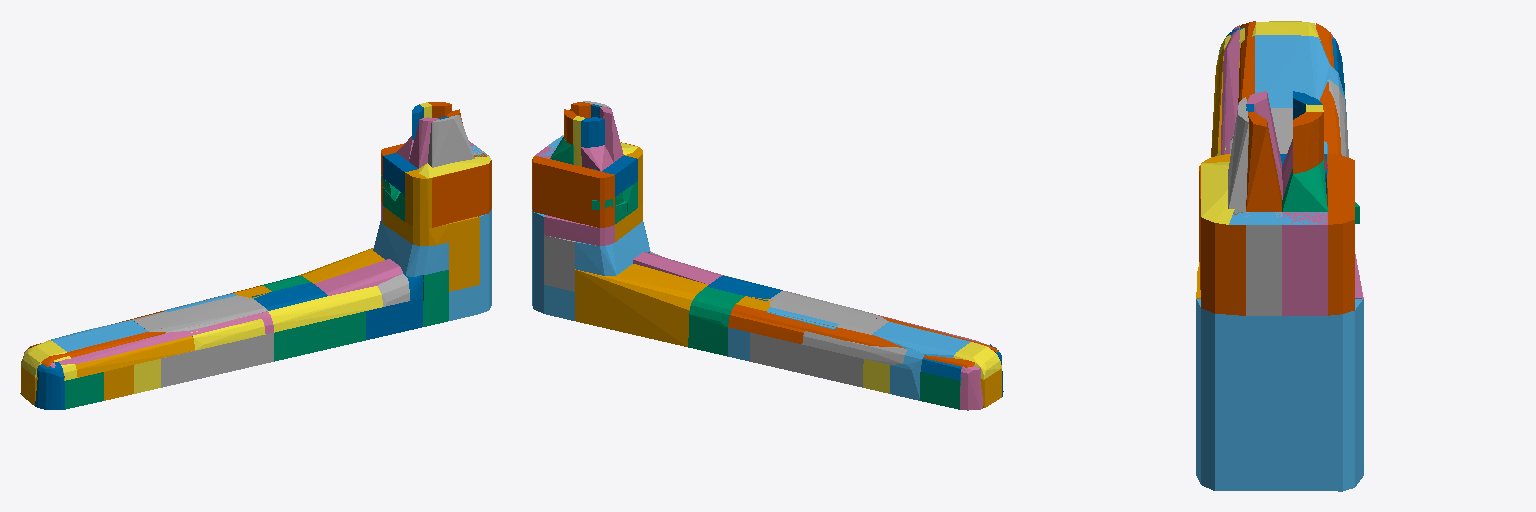
--- Facts derived from the render (not from the file) ---
The picture shows the robot from 3 angles, left to right: view 1: azimuth 30°, elevation 25°; view 2: azimuth 150°, elevation 25°; view 3: azimuth 270°, elevation 25°; orthographic projection.
Model root with 64 links and 63 joints (63 fixed), rooted at link_handle~handle1_convex_piece_0, posed every joint at zero.
Visible links, largest first — view 1: link_handle~handle1_convex_piece_63, link_handle~handle1_convex_piece_21, link_handle~handle1_convex_piece_58, link_handle~handle1_convex_piece_35, link_handle~handle1_convex_piece_47, link_handle~handle1_convex_piece_49, link_handle~handle1_convex_piece_8, link_handle~handle1_convex_piece_55, link_handle~handle1_convex_piece_48, link_handle~handle1_convex_piece_44, link_handle~handle1_convex_piece_46, link_handle~handle1_convex_piece_38 (+19 smaller); view 2: link_handle~handle1_convex_piece_56, link_handle~handle1_convex_piece_45, link_handle~handle1_convex_piece_63, link_handle~handle1_convex_piece_34, link_handle~handle1_convex_piece_49, link_handle~handle1_convex_piece_47, link_handle~handle1_convex_piece_61, link_handle~handle1_convex_piece_41, link_handle~handle1_convex_piece_7, link_handle~handle1_convex_piece_22, link_handle~handle1_convex_piece_57, link_handle~handle1_convex_piece_25 (+17 smaller); view 3: link_handle~handle1_convex_piece_25, link_handle~handle1_convex_piece_6, link_handle~handle1_convex_piece_41, link_handle~handle1_convex_piece_45, link_handle~handle1_convex_piece_21, link_handle~handle1_convex_piece_15, link_handle~handle1_convex_piece_53, link_handle~handle1_convex_piece_55, link_handle~handle1_convex_piece_26, link_handle~handle1_convex_piece_29, link_handle~handle1_convex_piece_38, link_handle~handle1_convex_piece_43 (+7 smaller).
Link boxes in pixels (x1,y1,x2,y2): link_handle~handle1_convex_piece_63: (161, 333, 273, 387); link_handle~handle1_convex_piece_21: (432, 153, 491, 227); link_handle~handle1_convex_piece_58: (274, 311, 365, 361); link_handle~handle1_convex_piece_35: (268, 286, 382, 332); link_handle~handle1_convex_piece_47: (134, 295, 267, 333); link_handle~handle1_convex_piece_49: (373, 220, 448, 276); link_handle~handle1_convex_piece_8: (449, 216, 479, 291); link_handle~handle1_convex_piece_55: (428, 115, 474, 167); link_handle~handle1_convex_piece_48: (75, 336, 194, 377); link_handle~handle1_convex_piece_44: (366, 298, 422, 339); link_handle~handle1_convex_piece_46: (314, 259, 402, 295); link_handle~handle1_convex_piece_38: (50, 313, 261, 367); link_handle~handle1_convex_piece_56: (575, 264, 707, 346); link_handle~handle1_convex_piece_45: (532, 156, 614, 227); link_handle~handle1_convex_piece_63: (750, 332, 863, 387); link_handle~handle1_convex_piece_34: (688, 287, 744, 356); link_handle~handle1_convex_piece_49: (575, 221, 650, 275); link_handle~handle1_convex_piece_47: (769, 291, 888, 332); link_handle~handle1_convex_piece_61: (731, 304, 974, 367); link_handle~handle1_convex_piece_41: (872, 322, 969, 357); link_handle~handle1_convex_piece_7: (544, 235, 575, 291); link_handle~handle1_convex_piece_22: (544, 215, 614, 245); link_handle~handle1_convex_piece_57: (890, 348, 924, 400); link_handle~handle1_convex_piece_25: (532, 209, 546, 313); link_handle~handle1_convex_piece_25: (1196, 299, 1363, 491); link_handle~handle1_convex_piece_6: (1282, 212, 1327, 315); link_handle~handle1_convex_piece_41: (1255, 35, 1329, 107); link_handle~handle1_convex_piece_45: (1327, 154, 1354, 315); link_handle~handle1_convex_piece_21: (1199, 166, 1245, 315); link_handle~handle1_convex_piece_15: (1246, 212, 1281, 315); link_handle~handle1_convex_piece_53: (1246, 112, 1281, 211); link_handle~handle1_convex_piece_55: (1228, 97, 1248, 211); link_handle~handle1_convex_piece_26: (1282, 159, 1327, 211); link_handle~handle1_convex_piece_29: (1293, 112, 1323, 173); link_handle~handle1_convex_piece_38: (1221, 25, 1239, 154); link_handle~handle1_convex_piece_43: (1201, 162, 1234, 224).
Size in the robot's own frame: 0.1277 by 0.0227 by 0.052 metres.
64 mesh visuals loaded from 64 distinct referenced files (64 OBJ).

The robot description file, URDF, robot "root":
<robot name="root">
  <link name="link_handle~handle1_convex_piece_0">
    <inertial>
      <origin xyz="0 0 0" rpy="0 0 0"/>
      <mass value="9.66E-04"/>
      <inertia ixx="1.10E-07" ixy="-2.01E-07" ixz="-5.53E-07" iyy="3.87E-06" iyz="-3.13E-08" izz="3.80E-06"/>
    </inertial>
    <visual>
      <origin xyz="0 0 0" rpy="0 0 0"/>
      <geometry>
        <mesh filename="handle~handle1_convex_piece_0.obj" scale="1.0000E+00 1.0000E+00 1.0000E+00"/>
      </geometry>
      <material name=""/>
    </visual>
    <collision>
      <origin xyz="0 0 0" rpy="0 0 0"/>
      <geometry>
        <mesh filename="handle~handle1_convex_piece_0.obj" scale="1.0000E+00 1.0000E+00 1.0000E+00"/>
      </geometry>
    </collision>
  </link>
  <link name="link_handle~handle1_convex_piece_1">
    <inertial>
      <origin xyz="0 0 0" rpy="0 0 0"/>
      <mass value="5.49E-04"/>
      <inertia ixx="7.18E-08" ixy="4.76E-08" ixz="-7.96E-08" iyy="1.89E-07" iyz="2.88E-08" izz="1.57E-07"/>
    </inertial>
    <visual>
      <origin xyz="0 0 0" rpy="0 0 0"/>
      <geometry>
        <mesh filename="handle~handle1_convex_piece_1.obj" scale="1.0000E+00 1.0000E+00 1.0000E+00"/>
      </geometry>
      <material name=""/>
    </visual>
    <collision>
      <origin xyz="0 0 0" rpy="0 0 0"/>
      <geometry>
        <mesh filename="handle~handle1_convex_piece_1.obj" scale="1.0000E+00 1.0000E+00 1.0000E+00"/>
      </geometry>
    </collision>
  </link>
  <joint name="link_handle~handle1_convex_piece_1_joint" type="fixed">
    <origin xyz="0 0 0" rpy="0 0 0"/>
    <parent link="link_handle~handle1_convex_piece_0"/>
    <child link="link_handle~handle1_convex_piece_1"/>
  </joint>
  <link name="link_handle~handle1_convex_piece_2">
    <inertial>
      <origin xyz="0 0 0" rpy="0 0 0"/>
      <mass value="1.30E-03"/>
      <inertia ixx="1.38E-07" ixy="1.82E-07" ixz="2.47E-07" iyy="1.01E-06" iyz="-4.94E-08" izz="9.71E-07"/>
    </inertial>
    <visual>
      <origin xyz="0 0 0" rpy="0 0 0"/>
      <geometry>
        <mesh filename="handle~handle1_convex_piece_2.obj" scale="1.0000E+00 1.0000E+00 1.0000E+00"/>
      </geometry>
      <material name=""/>
    </visual>
    <collision>
      <origin xyz="0 0 0" rpy="0 0 0"/>
      <geometry>
        <mesh filename="handle~handle1_convex_piece_2.obj" scale="1.0000E+00 1.0000E+00 1.0000E+00"/>
      </geometry>
    </collision>
  </link>
  <joint name="link_handle~handle1_convex_piece_2_joint" type="fixed">
    <origin xyz="0 0 0" rpy="0 0 0"/>
    <parent link="link_handle~handle1_convex_piece_1"/>
    <child link="link_handle~handle1_convex_piece_2"/>
  </joint>
  <link name="link_handle~handle1_convex_piece_3">
    <inertial>
      <origin xyz="0 0 0" rpy="0 0 0"/>
      <mass value="1.32E-03"/>
      <inertia ixx="1.67E-07" ixy="3.58E-09" ixz="-6.91E-07" iyy="4.07E-06" iyz="3.04E-10" izz="3.97E-06"/>
    </inertial>
    <visual>
      <origin xyz="0 0 0" rpy="0 0 0"/>
      <geometry>
        <mesh filename="handle~handle1_convex_piece_3.obj" scale="1.0000E+00 1.0000E+00 1.0000E+00"/>
      </geometry>
      <material name=""/>
    </visual>
    <collision>
      <origin xyz="0 0 0" rpy="0 0 0"/>
      <geometry>
        <mesh filename="handle~handle1_convex_piece_3.obj" scale="1.0000E+00 1.0000E+00 1.0000E+00"/>
      </geometry>
    </collision>
  </link>
  <joint name="link_handle~handle1_convex_piece_3_joint" type="fixed">
    <origin xyz="0 0 0" rpy="0 0 0"/>
    <parent link="link_handle~handle1_convex_piece_2"/>
    <child link="link_handle~handle1_convex_piece_3"/>
  </joint>
  <link name="link_handle~handle1_convex_piece_4">
    <inertial>
      <origin xyz="0 0 0" rpy="0 0 0"/>
      <mass value="1.26E-04"/>
      <inertia ixx="9.51E-09" ixy="2.07E-08" ixz="8.66E-09" iyy="5.88E-08" iyz="-3.23E-09" izz="6.50E-08"/>
    </inertial>
    <visual>
      <origin xyz="0 0 0" rpy="0 0 0"/>
      <geometry>
        <mesh filename="handle~handle1_convex_piece_4.obj" scale="1.0000E+00 1.0000E+00 1.0000E+00"/>
      </geometry>
      <material name=""/>
    </visual>
    <collision>
      <origin xyz="0 0 0" rpy="0 0 0"/>
      <geometry>
        <mesh filename="handle~handle1_convex_piece_4.obj" scale="1.0000E+00 1.0000E+00 1.0000E+00"/>
      </geometry>
    </collision>
  </link>
  <joint name="link_handle~handle1_convex_piece_4_joint" type="fixed">
    <origin xyz="0 0 0" rpy="0 0 0"/>
    <parent link="link_handle~handle1_convex_piece_3"/>
    <child link="link_handle~handle1_convex_piece_4"/>
  </joint>
  <link name="link_handle~handle1_convex_piece_5">
    <inertial>
      <origin xyz="0 0 0" rpy="0 0 0"/>
      <mass value="6.37E-05"/>
      <inertia ixx="4.13E-09" ixy="-8.38E-09" ixz="-1.26E-08" iyy="7.22E-08" iyz="-1.53E-09" izz="7.01E-08"/>
    </inertial>
    <visual>
      <origin xyz="0 0 0" rpy="0 0 0"/>
      <geometry>
        <mesh filename="handle~handle1_convex_piece_5.obj" scale="1.0000E+00 1.0000E+00 1.0000E+00"/>
      </geometry>
      <material name=""/>
    </visual>
    <collision>
      <origin xyz="0 0 0" rpy="0 0 0"/>
      <geometry>
        <mesh filename="handle~handle1_convex_piece_5.obj" scale="1.0000E+00 1.0000E+00 1.0000E+00"/>
      </geometry>
    </collision>
  </link>
  <joint name="link_handle~handle1_convex_piece_5_joint" type="fixed">
    <origin xyz="0 0 0" rpy="0 0 0"/>
    <parent link="link_handle~handle1_convex_piece_4"/>
    <child link="link_handle~handle1_convex_piece_5"/>
  </joint>
  <link name="link_handle~handle1_convex_piece_6">
    <inertial>
      <origin xyz="0 0 0" rpy="0 0 0"/>
      <mass value="4.26E-04"/>
      <inertia ixx="1.64E-07" ixy="-5.77E-08" ixz="-3.39E-07" iyy="9.14E-07" iyz="-2.60E-08" izz="7.62E-07"/>
    </inertial>
    <visual>
      <origin xyz="0 0 0" rpy="0 0 0"/>
      <geometry>
        <mesh filename="handle~handle1_convex_piece_6.obj" scale="1.0000E+00 1.0000E+00 1.0000E+00"/>
      </geometry>
      <material name=""/>
    </visual>
    <collision>
      <origin xyz="0 0 0" rpy="0 0 0"/>
      <geometry>
        <mesh filename="handle~handle1_convex_piece_6.obj" scale="1.0000E+00 1.0000E+00 1.0000E+00"/>
      </geometry>
    </collision>
  </link>
  <joint name="link_handle~handle1_convex_piece_6_joint" type="fixed">
    <origin xyz="0 0 0" rpy="0 0 0"/>
    <parent link="link_handle~handle1_convex_piece_5"/>
    <child link="link_handle~handle1_convex_piece_6"/>
  </joint>
  <link name="link_handle~handle1_convex_piece_7">
    <inertial>
      <origin xyz="0 0 0" rpy="0 0 0"/>
      <mass value="7.29E-04"/>
      <inertia ixx="6.05E-08" ixy="-2.02E-07" ixz="-1.78E-08" iyy="8.79E-07" iyz="-3.95E-09" izz="9.18E-07"/>
    </inertial>
    <visual>
      <origin xyz="0 0 0" rpy="0 0 0"/>
      <geometry>
        <mesh filename="handle~handle1_convex_piece_7.obj" scale="1.0000E+00 1.0000E+00 1.0000E+00"/>
      </geometry>
      <material name=""/>
    </visual>
    <collision>
      <origin xyz="0 0 0" rpy="0 0 0"/>
      <geometry>
        <mesh filename="handle~handle1_convex_piece_7.obj" scale="1.0000E+00 1.0000E+00 1.0000E+00"/>
      </geometry>
    </collision>
  </link>
  <joint name="link_handle~handle1_convex_piece_7_joint" type="fixed">
    <origin xyz="0 0 0" rpy="0 0 0"/>
    <parent link="link_handle~handle1_convex_piece_6"/>
    <child link="link_handle~handle1_convex_piece_7"/>
  </joint>
  <link name="link_handle~handle1_convex_piece_8">
    <inertial>
      <origin xyz="0 0 0" rpy="0 0 0"/>
      <mass value="1.00E-03"/>
      <inertia ixx="1.05E-07" ixy="2.76E-07" ixz="-1.09E-07" iyy="1.23E-06" iyz="2.52E-08" izz="1.26E-06"/>
    </inertial>
    <visual>
      <origin xyz="0 0 0" rpy="0 0 0"/>
      <geometry>
        <mesh filename="handle~handle1_convex_piece_8.obj" scale="1.0000E+00 1.0000E+00 1.0000E+00"/>
      </geometry>
      <material name=""/>
    </visual>
    <collision>
      <origin xyz="0 0 0" rpy="0 0 0"/>
      <geometry>
        <mesh filename="handle~handle1_convex_piece_8.obj" scale="1.0000E+00 1.0000E+00 1.0000E+00"/>
      </geometry>
    </collision>
  </link>
  <joint name="link_handle~handle1_convex_piece_8_joint" type="fixed">
    <origin xyz="0 0 0" rpy="0 0 0"/>
    <parent link="link_handle~handle1_convex_piece_7"/>
    <child link="link_handle~handle1_convex_piece_8"/>
  </joint>
  <link name="link_handle~handle1_convex_piece_9">
    <inertial>
      <origin xyz="0 0 0" rpy="0 0 0"/>
      <mass value="0.00E+00"/>
      <inertia ixx="2.90E-23" ixy="-0.00E+00" ixz="-0.00E+00" iyy="2.90E-23" iyz="-0.00E+00" izz="0.00E+00"/>
    </inertial>
    <visual>
      <origin xyz="0 0 0" rpy="0 0 0"/>
      <geometry>
        <mesh filename="handle~handle1_convex_piece_9.obj" scale="1.0000E+00 1.0000E+00 1.0000E+00"/>
      </geometry>
      <material name=""/>
    </visual>
    <collision>
      <origin xyz="0 0 0" rpy="0 0 0"/>
      <geometry>
        <mesh filename="handle~handle1_convex_piece_9.obj" scale="1.0000E+00 1.0000E+00 1.0000E+00"/>
      </geometry>
    </collision>
  </link>
  <joint name="link_handle~handle1_convex_piece_9_joint" type="fixed">
    <origin xyz="0 0 0" rpy="0 0 0"/>
    <parent link="link_handle~handle1_convex_piece_8"/>
    <child link="link_handle~handle1_convex_piece_9"/>
  </joint>
  <link name="link_handle~handle1_convex_piece_10">
    <inertial>
      <origin xyz="0 0 0" rpy="0 0 0"/>
      <mass value="7.95E-05"/>
      <inertia ixx="2.95E-08" ixy="-1.14E-08" ixz="-3.44E-08" iyy="7.14E-08" iyz="-8.72E-09" izz="4.84E-08"/>
    </inertial>
    <visual>
      <origin xyz="0 0 0" rpy="0 0 0"/>
      <geometry>
        <mesh filename="handle~handle1_convex_piece_10.obj" scale="1.0000E+00 1.0000E+00 1.0000E+00"/>
      </geometry>
      <material name=""/>
    </visual>
    <collision>
      <origin xyz="0 0 0" rpy="0 0 0"/>
      <geometry>
        <mesh filename="handle~handle1_convex_piece_10.obj" scale="1.0000E+00 1.0000E+00 1.0000E+00"/>
      </geometry>
    </collision>
  </link>
  <joint name="link_handle~handle1_convex_piece_10_joint" type="fixed">
    <origin xyz="0 0 0" rpy="0 0 0"/>
    <parent link="link_handle~handle1_convex_piece_9"/>
    <child link="link_handle~handle1_convex_piece_10"/>
  </joint>
  <link name="link_handle~handle1_convex_piece_11">
    <inertial>
      <origin xyz="0 0 0" rpy="0 0 0"/>
      <mass value="1.10E-04"/>
      <inertia ixx="8.50E-08" ixy="-1.58E-08" ixz="-9.57E-08" iyy="2.02E-07" iyz="-1.29E-08" izz="1.21E-07"/>
    </inertial>
    <visual>
      <origin xyz="0 0 0" rpy="0 0 0"/>
      <geometry>
        <mesh filename="handle~handle1_convex_piece_11.obj" scale="1.0000E+00 1.0000E+00 1.0000E+00"/>
      </geometry>
      <material name=""/>
    </visual>
    <collision>
      <origin xyz="0 0 0" rpy="0 0 0"/>
      <geometry>
        <mesh filename="handle~handle1_convex_piece_11.obj" scale="1.0000E+00 1.0000E+00 1.0000E+00"/>
      </geometry>
    </collision>
  </link>
  <joint name="link_handle~handle1_convex_piece_11_joint" type="fixed">
    <origin xyz="0 0 0" rpy="0 0 0"/>
    <parent link="link_handle~handle1_convex_piece_10"/>
    <child link="link_handle~handle1_convex_piece_11"/>
  </joint>
  <link name="link_handle~handle1_convex_piece_12">
    <inertial>
      <origin xyz="0 0 0" rpy="0 0 0"/>
      <mass value="5.61E-05"/>
      <inertia ixx="4.03E-09" ixy="2.89E-08" ixz="-1.80E-08" iyy="2.95E-07" iyz="1.80E-09" izz="2.97E-07"/>
    </inertial>
    <visual>
      <origin xyz="0 0 0" rpy="0 0 0"/>
      <geometry>
        <mesh filename="handle~handle1_convex_piece_12.obj" scale="1.0000E+00 1.0000E+00 1.0000E+00"/>
      </geometry>
      <material name=""/>
    </visual>
    <collision>
      <origin xyz="0 0 0" rpy="0 0 0"/>
      <geometry>
        <mesh filename="handle~handle1_convex_piece_12.obj" scale="1.0000E+00 1.0000E+00 1.0000E+00"/>
      </geometry>
    </collision>
  </link>
  <joint name="link_handle~handle1_convex_piece_12_joint" type="fixed">
    <origin xyz="0 0 0" rpy="0 0 0"/>
    <parent link="link_handle~handle1_convex_piece_11"/>
    <child link="link_handle~handle1_convex_piece_12"/>
  </joint>
  <link name="link_handle~handle1_convex_piece_13">
    <inertial>
      <origin xyz="0 0 0" rpy="0 0 0"/>
      <mass value="1.04E-04"/>
      <inertia ixx="9.45E-09" ixy="1.99E-08" ixz="-1.05E-08" iyy="6.02E-08" iyz="3.88E-09" izz="6.54E-08"/>
    </inertial>
    <visual>
      <origin xyz="0 0 0" rpy="0 0 0"/>
      <geometry>
        <mesh filename="handle~handle1_convex_piece_13.obj" scale="1.0000E+00 1.0000E+00 1.0000E+00"/>
      </geometry>
      <material name=""/>
    </visual>
    <collision>
      <origin xyz="0 0 0" rpy="0 0 0"/>
      <geometry>
        <mesh filename="handle~handle1_convex_piece_13.obj" scale="1.0000E+00 1.0000E+00 1.0000E+00"/>
      </geometry>
    </collision>
  </link>
  <joint name="link_handle~handle1_convex_piece_13_joint" type="fixed">
    <origin xyz="0 0 0" rpy="0 0 0"/>
    <parent link="link_handle~handle1_convex_piece_12"/>
    <child link="link_handle~handle1_convex_piece_13"/>
  </joint>
  <link name="link_handle~handle1_convex_piece_14">
    <inertial>
      <origin xyz="0 0 0" rpy="0 0 0"/>
      <mass value="1.01E-04"/>
      <inertia ixx="1.33E-08" ixy="5.02E-08" ixz="-7.29E-08" iyy="6.50E-07" iyz="5.75E-09" izz="6.45E-07"/>
    </inertial>
    <visual>
      <origin xyz="0 0 0" rpy="0 0 0"/>
      <geometry>
        <mesh filename="handle~handle1_convex_piece_14.obj" scale="1.0000E+00 1.0000E+00 1.0000E+00"/>
      </geometry>
      <material name=""/>
    </visual>
    <collision>
      <origin xyz="0 0 0" rpy="0 0 0"/>
      <geometry>
        <mesh filename="handle~handle1_convex_piece_14.obj" scale="1.0000E+00 1.0000E+00 1.0000E+00"/>
      </geometry>
    </collision>
  </link>
  <joint name="link_handle~handle1_convex_piece_14_joint" type="fixed">
    <origin xyz="0 0 0" rpy="0 0 0"/>
    <parent link="link_handle~handle1_convex_piece_13"/>
    <child link="link_handle~handle1_convex_piece_14"/>
  </joint>
  <link name="link_handle~handle1_convex_piece_15">
    <inertial>
      <origin xyz="0 0 0" rpy="0 0 0"/>
      <mass value="6.59E-04"/>
      <inertia ixx="2.51E-07" ixy="5.80E-08" ixz="-4.97E-07" iyy="1.30E-06" iyz="2.77E-08" izz="1.06E-06"/>
    </inertial>
    <visual>
      <origin xyz="0 0 0" rpy="0 0 0"/>
      <geometry>
        <mesh filename="handle~handle1_convex_piece_15.obj" scale="1.0000E+00 1.0000E+00 1.0000E+00"/>
      </geometry>
      <material name=""/>
    </visual>
    <collision>
      <origin xyz="0 0 0" rpy="0 0 0"/>
      <geometry>
        <mesh filename="handle~handle1_convex_piece_15.obj" scale="1.0000E+00 1.0000E+00 1.0000E+00"/>
      </geometry>
    </collision>
  </link>
  <joint name="link_handle~handle1_convex_piece_15_joint" type="fixed">
    <origin xyz="0 0 0" rpy="0 0 0"/>
    <parent link="link_handle~handle1_convex_piece_14"/>
    <child link="link_handle~handle1_convex_piece_15"/>
  </joint>
  <link name="link_handle~handle1_convex_piece_16">
    <inertial>
      <origin xyz="0 0 0" rpy="0 0 0"/>
      <mass value="3.86E-04"/>
      <inertia ixx="4.54E-08" ixy="2.09E-08" ixz="-3.15E-07" iyy="2.54E-06" iyz="2.73E-09" izz="2.50E-06"/>
    </inertial>
    <visual>
      <origin xyz="0 0 0" rpy="0 0 0"/>
      <geometry>
        <mesh filename="handle~handle1_convex_piece_16.obj" scale="1.0000E+00 1.0000E+00 1.0000E+00"/>
      </geometry>
      <material name=""/>
    </visual>
    <collision>
      <origin xyz="0 0 0" rpy="0 0 0"/>
      <geometry>
        <mesh filename="handle~handle1_convex_piece_16.obj" scale="1.0000E+00 1.0000E+00 1.0000E+00"/>
      </geometry>
    </collision>
  </link>
  <joint name="link_handle~handle1_convex_piece_16_joint" type="fixed">
    <origin xyz="0 0 0" rpy="0 0 0"/>
    <parent link="link_handle~handle1_convex_piece_15"/>
    <child link="link_handle~handle1_convex_piece_16"/>
  </joint>
  <link name="link_handle~handle1_convex_piece_17">
    <inertial>
      <origin xyz="0 0 0" rpy="0 0 0"/>
      <mass value="1.62E-03"/>
      <inertia ixx="2.50E-07" ixy="-6.52E-10" ixz="5.82E-07" iyy="2.15E-06" iyz="1.86E-10" izz="2.04E-06"/>
    </inertial>
    <visual>
      <origin xyz="0 0 0" rpy="0 0 0"/>
      <geometry>
        <mesh filename="handle~handle1_convex_piece_17.obj" scale="1.0000E+00 1.0000E+00 1.0000E+00"/>
      </geometry>
      <material name=""/>
    </visual>
    <collision>
      <origin xyz="0 0 0" rpy="0 0 0"/>
      <geometry>
        <mesh filename="handle~handle1_convex_piece_17.obj" scale="1.0000E+00 1.0000E+00 1.0000E+00"/>
      </geometry>
    </collision>
  </link>
  <joint name="link_handle~handle1_convex_piece_17_joint" type="fixed">
    <origin xyz="0 0 0" rpy="0 0 0"/>
    <parent link="link_handle~handle1_convex_piece_16"/>
    <child link="link_handle~handle1_convex_piece_17"/>
  </joint>
  <link name="link_handle~handle1_convex_piece_18">
    <inertial>
      <origin xyz="0 0 0" rpy="0 0 0"/>
      <mass value="1.58E-03"/>
      <inertia ixx="2.16E-07" ixy="1.82E-09" ixz="-1.18E-06" iyy="8.41E-06" iyz="1.81E-10" izz="8.28E-06"/>
    </inertial>
    <visual>
      <origin xyz="0 0 0" rpy="0 0 0"/>
      <geometry>
        <mesh filename="handle~handle1_convex_piece_18.obj" scale="1.0000E+00 1.0000E+00 1.0000E+00"/>
      </geometry>
      <material name=""/>
    </visual>
    <collision>
      <origin xyz="0 0 0" rpy="0 0 0"/>
      <geometry>
        <mesh filename="handle~handle1_convex_piece_18.obj" scale="1.0000E+00 1.0000E+00 1.0000E+00"/>
      </geometry>
    </collision>
  </link>
  <joint name="link_handle~handle1_convex_piece_18_joint" type="fixed">
    <origin xyz="0 0 0" rpy="0 0 0"/>
    <parent link="link_handle~handle1_convex_piece_17"/>
    <child link="link_handle~handle1_convex_piece_18"/>
  </joint>
  <link name="link_handle~handle1_convex_piece_19">
    <inertial>
      <origin xyz="0 0 0" rpy="0 0 0"/>
      <mass value="3.68E-04"/>
      <inertia ixx="1.62E-08" ixy="-4.18E-12" ixz="-4.61E-08" iyy="5.04E-07" iyz="-3.94E-13" izz="4.93E-07"/>
    </inertial>
    <visual>
      <origin xyz="0 0 0" rpy="0 0 0"/>
      <geometry>
        <mesh filename="handle~handle1_convex_piece_19.obj" scale="1.0000E+00 1.0000E+00 1.0000E+00"/>
      </geometry>
      <material name=""/>
    </visual>
    <collision>
      <origin xyz="0 0 0" rpy="0 0 0"/>
      <geometry>
        <mesh filename="handle~handle1_convex_piece_19.obj" scale="1.0000E+00 1.0000E+00 1.0000E+00"/>
      </geometry>
    </collision>
  </link>
  <joint name="link_handle~handle1_convex_piece_19_joint" type="fixed">
    <origin xyz="0 0 0" rpy="0 0 0"/>
    <parent link="link_handle~handle1_convex_piece_18"/>
    <child link="link_handle~handle1_convex_piece_19"/>
  </joint>
  <link name="link_handle~handle1_convex_piece_20">
    <inertial>
      <origin xyz="0 0 0" rpy="0 0 0"/>
      <mass value="1.97E-04"/>
      <inertia ixx="2.42E-08" ixy="-8.39E-08" ixz="-1.43E-07" iyy="1.27E-06" iyz="-9.59E-09" izz="1.26E-06"/>
    </inertial>
    <visual>
      <origin xyz="0 0 0" rpy="0 0 0"/>
      <geometry>
        <mesh filename="handle~handle1_convex_piece_20.obj" scale="1.0000E+00 1.0000E+00 1.0000E+00"/>
      </geometry>
      <material name=""/>
    </visual>
    <collision>
      <origin xyz="0 0 0" rpy="0 0 0"/>
      <geometry>
        <mesh filename="handle~handle1_convex_piece_20.obj" scale="1.0000E+00 1.0000E+00 1.0000E+00"/>
      </geometry>
    </collision>
  </link>
  <joint name="link_handle~handle1_convex_piece_20_joint" type="fixed">
    <origin xyz="0 0 0" rpy="0 0 0"/>
    <parent link="link_handle~handle1_convex_piece_19"/>
    <child link="link_handle~handle1_convex_piece_20"/>
  </joint>
  <link name="link_handle~handle1_convex_piece_21">
    <inertial>
      <origin xyz="0 0 0" rpy="0 0 0"/>
      <mass value="1.69E-03"/>
      <inertia ixx="7.28E-07" ixy="4.37E-07" ixz="-1.09E-06" iyy="2.65E-06" iyz="2.41E-07" izz="2.13E-06"/>
    </inertial>
    <visual>
      <origin xyz="0 0 0" rpy="0 0 0"/>
      <geometry>
        <mesh filename="handle~handle1_convex_piece_21.obj" scale="1.0000E+00 1.0000E+00 1.0000E+00"/>
      </geometry>
      <material name=""/>
    </visual>
    <collision>
      <origin xyz="0 0 0" rpy="0 0 0"/>
      <geometry>
        <mesh filename="handle~handle1_convex_piece_21.obj" scale="1.0000E+00 1.0000E+00 1.0000E+00"/>
      </geometry>
    </collision>
  </link>
  <joint name="link_handle~handle1_convex_piece_21_joint" type="fixed">
    <origin xyz="0 0 0" rpy="0 0 0"/>
    <parent link="link_handle~handle1_convex_piece_20"/>
    <child link="link_handle~handle1_convex_piece_21"/>
  </joint>
  <link name="link_handle~handle1_convex_piece_22">
    <inertial>
      <origin xyz="0 0 0" rpy="0 0 0"/>
      <mass value="4.37E-04"/>
      <inertia ixx="7.14E-08" ixy="-1.10E-07" ixz="-1.32E-07" iyy="4.75E-07" iyz="-3.41E-08" izz="4.63E-07"/>
    </inertial>
    <visual>
      <origin xyz="0 0 0" rpy="0 0 0"/>
      <geometry>
        <mesh filename="handle~handle1_convex_piece_22.obj" scale="1.0000E+00 1.0000E+00 1.0000E+00"/>
      </geometry>
      <material name=""/>
    </visual>
    <collision>
      <origin xyz="0 0 0" rpy="0 0 0"/>
      <geometry>
        <mesh filename="handle~handle1_convex_piece_22.obj" scale="1.0000E+00 1.0000E+00 1.0000E+00"/>
      </geometry>
    </collision>
  </link>
  <joint name="link_handle~handle1_convex_piece_22_joint" type="fixed">
    <origin xyz="0 0 0" rpy="0 0 0"/>
    <parent link="link_handle~handle1_convex_piece_21"/>
    <child link="link_handle~handle1_convex_piece_22"/>
  </joint>
  <link name="link_handle~handle1_convex_piece_23">
    <inertial>
      <origin xyz="0 0 0" rpy="0 0 0"/>
      <mass value="5.21E-05"/>
      <inertia ixx="4.34E-09" ixy="2.30E-08" ixz="-1.30E-08" iyy="1.66E-07" iyz="1.86E-09" izz="1.68E-07"/>
    </inertial>
    <visual>
      <origin xyz="0 0 0" rpy="0 0 0"/>
      <geometry>
        <mesh filename="handle~handle1_convex_piece_23.obj" scale="1.0000E+00 1.0000E+00 1.0000E+00"/>
      </geometry>
      <material name=""/>
    </visual>
    <collision>
      <origin xyz="0 0 0" rpy="0 0 0"/>
      <geometry>
        <mesh filename="handle~handle1_convex_piece_23.obj" scale="1.0000E+00 1.0000E+00 1.0000E+00"/>
      </geometry>
    </collision>
  </link>
  <joint name="link_handle~handle1_convex_piece_23_joint" type="fixed">
    <origin xyz="0 0 0" rpy="0 0 0"/>
    <parent link="link_handle~handle1_convex_piece_22"/>
    <child link="link_handle~handle1_convex_piece_23"/>
  </joint>
  <link name="link_handle~handle1_convex_piece_24">
    <inertial>
      <origin xyz="0 0 0" rpy="0 0 0"/>
      <mass value="2.36E-04"/>
      <inertia ixx="1.08E-07" ixy="4.22E-08" ixz="-1.10E-07" iyy="2.28E-07" iyz="3.44E-08" izz="1.47E-07"/>
    </inertial>
    <visual>
      <origin xyz="0 0 0" rpy="0 0 0"/>
      <geometry>
        <mesh filename="handle~handle1_convex_piece_24.obj" scale="1.0000E+00 1.0000E+00 1.0000E+00"/>
      </geometry>
      <material name=""/>
    </visual>
    <collision>
      <origin xyz="0 0 0" rpy="0 0 0"/>
      <geometry>
        <mesh filename="handle~handle1_convex_piece_24.obj" scale="1.0000E+00 1.0000E+00 1.0000E+00"/>
      </geometry>
    </collision>
  </link>
  <joint name="link_handle~handle1_convex_piece_24_joint" type="fixed">
    <origin xyz="0 0 0" rpy="0 0 0"/>
    <parent link="link_handle~handle1_convex_piece_23"/>
    <child link="link_handle~handle1_convex_piece_24"/>
  </joint>
  <link name="link_handle~handle1_convex_piece_25">
    <inertial>
      <origin xyz="0 0 0" rpy="0 0 0"/>
      <mass value="2.85E-03"/>
      <inertia ixx="2.75E-07" ixy="-2.75E-10" ixz="1.26E-07" iyy="5.06E-06" iyz="-4.28E-12" izz="5.00E-06"/>
    </inertial>
    <visual>
      <origin xyz="0 0 0" rpy="0 0 0"/>
      <geometry>
        <mesh filename="handle~handle1_convex_piece_25.obj" scale="1.0000E+00 1.0000E+00 1.0000E+00"/>
      </geometry>
      <material name=""/>
    </visual>
    <collision>
      <origin xyz="0 0 0" rpy="0 0 0"/>
      <geometry>
        <mesh filename="handle~handle1_convex_piece_25.obj" scale="1.0000E+00 1.0000E+00 1.0000E+00"/>
      </geometry>
    </collision>
  </link>
  <joint name="link_handle~handle1_convex_piece_25_joint" type="fixed">
    <origin xyz="0 0 0" rpy="0 0 0"/>
    <parent link="link_handle~handle1_convex_piece_24"/>
    <child link="link_handle~handle1_convex_piece_25"/>
  </joint>
  <link name="link_handle~handle1_convex_piece_26">
    <inertial>
      <origin xyz="0 0 0" rpy="0 0 0"/>
      <mass value="5.97E-04"/>
      <inertia ixx="2.83E-07" ixy="-8.32E-08" ixz="-4.70E-07" iyy="1.13E-06" iyz="-4.53E-08" izz="8.68E-07"/>
    </inertial>
    <visual>
      <origin xyz="0 0 0" rpy="0 0 0"/>
      <geometry>
        <mesh filename="handle~handle1_convex_piece_26.obj" scale="1.0000E+00 1.0000E+00 1.0000E+00"/>
      </geometry>
      <material name=""/>
    </visual>
    <collision>
      <origin xyz="0 0 0" rpy="0 0 0"/>
      <geometry>
        <mesh filename="handle~handle1_convex_piece_26.obj" scale="1.0000E+00 1.0000E+00 1.0000E+00"/>
      </geometry>
    </collision>
  </link>
  <joint name="link_handle~handle1_convex_piece_26_joint" type="fixed">
    <origin xyz="0 0 0" rpy="0 0 0"/>
    <parent link="link_handle~handle1_convex_piece_25"/>
    <child link="link_handle~handle1_convex_piece_26"/>
  </joint>
  <link name="link_handle~handle1_convex_piece_27">
    <inertial>
      <origin xyz="0 0 0" rpy="0 0 0"/>
      <mass value="9.42E-05"/>
      <inertia ixx="8.76E-09" ixy="-2.44E-08" ixz="-1.29E-08" iyy="9.31E-08" iyz="-3.61E-09" izz="9.79E-08"/>
    </inertial>
    <visual>
      <origin xyz="0 0 0" rpy="0 0 0"/>
      <geometry>
        <mesh filename="handle~handle1_convex_piece_27.obj" scale="1.0000E+00 1.0000E+00 1.0000E+00"/>
      </geometry>
      <material name=""/>
    </visual>
    <collision>
      <origin xyz="0 0 0" rpy="0 0 0"/>
      <geometry>
        <mesh filename="handle~handle1_convex_piece_27.obj" scale="1.0000E+00 1.0000E+00 1.0000E+00"/>
      </geometry>
    </collision>
  </link>
  <joint name="link_handle~handle1_convex_piece_27_joint" type="fixed">
    <origin xyz="0 0 0" rpy="0 0 0"/>
    <parent link="link_handle~handle1_convex_piece_26"/>
    <child link="link_handle~handle1_convex_piece_27"/>
  </joint>
  <link name="link_handle~handle1_convex_piece_28">
    <inertial>
      <origin xyz="0 0 0" rpy="0 0 0"/>
      <mass value="7.24E-05"/>
      <inertia ixx="8.57E-08" ixy="-7.64E-09" ixz="-7.38E-08" iyy="1.49E-07" iyz="-8.68E-09" izz="6.56E-08"/>
    </inertial>
    <visual>
      <origin xyz="0 0 0" rpy="0 0 0"/>
      <geometry>
        <mesh filename="handle~handle1_convex_piece_28.obj" scale="1.0000E+00 1.0000E+00 1.0000E+00"/>
      </geometry>
      <material name=""/>
    </visual>
    <collision>
      <origin xyz="0 0 0" rpy="0 0 0"/>
      <geometry>
        <mesh filename="handle~handle1_convex_piece_28.obj" scale="1.0000E+00 1.0000E+00 1.0000E+00"/>
      </geometry>
    </collision>
  </link>
  <joint name="link_handle~handle1_convex_piece_28_joint" type="fixed">
    <origin xyz="0 0 0" rpy="0 0 0"/>
    <parent link="link_handle~handle1_convex_piece_27"/>
    <child link="link_handle~handle1_convex_piece_28"/>
  </joint>
  <link name="link_handle~handle1_convex_piece_29">
    <inertial>
      <origin xyz="0 0 0" rpy="0 0 0"/>
      <mass value="8.22E-05"/>
      <inertia ixx="9.76E-08" ixy="-1.06E-08" ixz="-1.02E-07" iyy="2.04E-07" iyz="-1.01E-08" izz="1.09E-07"/>
    </inertial>
    <visual>
      <origin xyz="0 0 0" rpy="0 0 0"/>
      <geometry>
        <mesh filename="handle~handle1_convex_piece_29.obj" scale="1.0000E+00 1.0000E+00 1.0000E+00"/>
      </geometry>
      <material name=""/>
    </visual>
    <collision>
      <origin xyz="0 0 0" rpy="0 0 0"/>
      <geometry>
        <mesh filename="handle~handle1_convex_piece_29.obj" scale="1.0000E+00 1.0000E+00 1.0000E+00"/>
      </geometry>
    </collision>
  </link>
  <joint name="link_handle~handle1_convex_piece_29_joint" type="fixed">
    <origin xyz="0 0 0" rpy="0 0 0"/>
    <parent link="link_handle~handle1_convex_piece_28"/>
    <child link="link_handle~handle1_convex_piece_29"/>
  </joint>
  <link name="link_handle~handle1_convex_piece_30">
    <inertial>
      <origin xyz="0 0 0" rpy="0 0 0"/>
      <mass value="2.30E-05"/>
      <inertia ixx="1.69E-09" ixy="-3.50E-09" ixz="-1.66E-09" iyy="9.55E-09" iyz="-6.53E-10" izz="1.06E-08"/>
    </inertial>
    <visual>
      <origin xyz="0 0 0" rpy="0 0 0"/>
      <geometry>
        <mesh filename="handle~handle1_convex_piece_30.obj" scale="1.0000E+00 1.0000E+00 1.0000E+00"/>
      </geometry>
      <material name=""/>
    </visual>
    <collision>
      <origin xyz="0 0 0" rpy="0 0 0"/>
      <geometry>
        <mesh filename="handle~handle1_convex_piece_30.obj" scale="1.0000E+00 1.0000E+00 1.0000E+00"/>
      </geometry>
    </collision>
  </link>
  <joint name="link_handle~handle1_convex_piece_30_joint" type="fixed">
    <origin xyz="0 0 0" rpy="0 0 0"/>
    <parent link="link_handle~handle1_convex_piece_29"/>
    <child link="link_handle~handle1_convex_piece_30"/>
  </joint>
  <link name="link_handle~handle1_convex_piece_31">
    <inertial>
      <origin xyz="0 0 0" rpy="0 0 0"/>
      <mass value="6.12E-05"/>
      <inertia ixx="5.95E-09" ixy="8.94E-09" ixz="3.44E-09" iyy="1.70E-08" iyz="-2.02E-09" izz="2.12E-08"/>
    </inertial>
    <visual>
      <origin xyz="0 0 0" rpy="0 0 0"/>
      <geometry>
        <mesh filename="handle~handle1_convex_piece_31.obj" scale="1.0000E+00 1.0000E+00 1.0000E+00"/>
      </geometry>
      <material name=""/>
    </visual>
    <collision>
      <origin xyz="0 0 0" rpy="0 0 0"/>
      <geometry>
        <mesh filename="handle~handle1_convex_piece_31.obj" scale="1.0000E+00 1.0000E+00 1.0000E+00"/>
      </geometry>
    </collision>
  </link>
  <joint name="link_handle~handle1_convex_piece_31_joint" type="fixed">
    <origin xyz="0 0 0" rpy="0 0 0"/>
    <parent link="link_handle~handle1_convex_piece_30"/>
    <child link="link_handle~handle1_convex_piece_31"/>
  </joint>
  <link name="link_handle~handle1_convex_piece_32">
    <inertial>
      <origin xyz="0 0 0" rpy="0 0 0"/>
      <mass value="7.07E-04"/>
      <inertia ixx="8.77E-08" ixy="4.75E-08" ixz="-1.80E-07" iyy="5.57E-07" iyz="1.71E-08" izz="5.09E-07"/>
    </inertial>
    <visual>
      <origin xyz="0 0 0" rpy="0 0 0"/>
      <geometry>
        <mesh filename="handle~handle1_convex_piece_32.obj" scale="1.0000E+00 1.0000E+00 1.0000E+00"/>
      </geometry>
      <material name=""/>
    </visual>
    <collision>
      <origin xyz="0 0 0" rpy="0 0 0"/>
      <geometry>
        <mesh filename="handle~handle1_convex_piece_32.obj" scale="1.0000E+00 1.0000E+00 1.0000E+00"/>
      </geometry>
    </collision>
  </link>
  <joint name="link_handle~handle1_convex_piece_32_joint" type="fixed">
    <origin xyz="0 0 0" rpy="0 0 0"/>
    <parent link="link_handle~handle1_convex_piece_31"/>
    <child link="link_handle~handle1_convex_piece_32"/>
  </joint>
  <link name="link_handle~handle1_convex_piece_33">
    <inertial>
      <origin xyz="0 0 0" rpy="0 0 0"/>
      <mass value="1.36E-04"/>
      <inertia ixx="6.46E-09" ixy="2.48E-08" ixz="-1.21E-08" iyy="1.31E-07" iyz="2.56E-09" izz="1.34E-07"/>
    </inertial>
    <visual>
      <origin xyz="0 0 0" rpy="0 0 0"/>
      <geometry>
        <mesh filename="handle~handle1_convex_piece_33.obj" scale="1.0000E+00 1.0000E+00 1.0000E+00"/>
      </geometry>
      <material name=""/>
    </visual>
    <collision>
      <origin xyz="0 0 0" rpy="0 0 0"/>
      <geometry>
        <mesh filename="handle~handle1_convex_piece_33.obj" scale="1.0000E+00 1.0000E+00 1.0000E+00"/>
      </geometry>
    </collision>
  </link>
  <joint name="link_handle~handle1_convex_piece_33_joint" type="fixed">
    <origin xyz="0 0 0" rpy="0 0 0"/>
    <parent link="link_handle~handle1_convex_piece_32"/>
    <child link="link_handle~handle1_convex_piece_33"/>
  </joint>
  <link name="link_handle~handle1_convex_piece_34">
    <inertial>
      <origin xyz="0 0 0" rpy="0 0 0"/>
      <mass value="1.24E-03"/>
      <inertia ixx="1.46E-07" ixy="4.99E-08" ixz="-7.10E-08" iyy="1.72E-07" iyz="5.89E-08" izz="1.22E-07"/>
    </inertial>
    <visual>
      <origin xyz="0 0 0" rpy="0 0 0"/>
      <geometry>
        <mesh filename="handle~handle1_convex_piece_34.obj" scale="1.0000E+00 1.0000E+00 1.0000E+00"/>
      </geometry>
      <material name=""/>
    </visual>
    <collision>
      <origin xyz="0 0 0" rpy="0 0 0"/>
      <geometry>
        <mesh filename="handle~handle1_convex_piece_34.obj" scale="1.0000E+00 1.0000E+00 1.0000E+00"/>
      </geometry>
    </collision>
  </link>
  <joint name="link_handle~handle1_convex_piece_34_joint" type="fixed">
    <origin xyz="0 0 0" rpy="0 0 0"/>
    <parent link="link_handle~handle1_convex_piece_33"/>
    <child link="link_handle~handle1_convex_piece_34"/>
  </joint>
  <link name="link_handle~handle1_convex_piece_35">
    <inertial>
      <origin xyz="0 0 0" rpy="0 0 0"/>
      <mass value="1.69E-04"/>
      <inertia ixx="1.62E-08" ixy="-4.47E-09" ixz="-2.24E-09" iyy="1.75E-08" iyz="-6.09E-09" izz="2.78E-08"/>
    </inertial>
    <visual>
      <origin xyz="0 0 0" rpy="0 0 0"/>
      <geometry>
        <mesh filename="handle~handle1_convex_piece_35.obj" scale="1.0000E+00 1.0000E+00 1.0000E+00"/>
      </geometry>
      <material name=""/>
    </visual>
    <collision>
      <origin xyz="0 0 0" rpy="0 0 0"/>
      <geometry>
        <mesh filename="handle~handle1_convex_piece_35.obj" scale="1.0000E+00 1.0000E+00 1.0000E+00"/>
      </geometry>
    </collision>
  </link>
  <joint name="link_handle~handle1_convex_piece_35_joint" type="fixed">
    <origin xyz="0 0 0" rpy="0 0 0"/>
    <parent link="link_handle~handle1_convex_piece_34"/>
    <child link="link_handle~handle1_convex_piece_35"/>
  </joint>
  <link name="link_handle~handle1_convex_piece_36">
    <inertial>
      <origin xyz="0 0 0" rpy="0 0 0"/>
      <mass value="4.37E-04"/>
      <inertia ixx="1.48E-08" ixy="-1.83E-08" ixz="-1.32E-08" iyy="6.02E-08" iyz="-6.13E-09" izz="6.64E-08"/>
    </inertial>
    <visual>
      <origin xyz="0 0 0" rpy="0 0 0"/>
      <geometry>
        <mesh filename="handle~handle1_convex_piece_36.obj" scale="1.0000E+00 1.0000E+00 1.0000E+00"/>
      </geometry>
      <material name=""/>
    </visual>
    <collision>
      <origin xyz="0 0 0" rpy="0 0 0"/>
      <geometry>
        <mesh filename="handle~handle1_convex_piece_36.obj" scale="1.0000E+00 1.0000E+00 1.0000E+00"/>
      </geometry>
    </collision>
  </link>
  <joint name="link_handle~handle1_convex_piece_36_joint" type="fixed">
    <origin xyz="0 0 0" rpy="0 0 0"/>
    <parent link="link_handle~handle1_convex_piece_35"/>
    <child link="link_handle~handle1_convex_piece_36"/>
  </joint>
  <link name="link_handle~handle1_convex_piece_37">
    <inertial>
      <origin xyz="0 0 0" rpy="0 0 0"/>
      <mass value="8.27E-05"/>
      <inertia ixx="1.98E-09" ixy="-2.26E-08" ixz="-1.14E-08" iyy="3.39E-07" iyz="-7.80E-10" izz="3.41E-07"/>
    </inertial>
    <visual>
      <origin xyz="0 0 0" rpy="0 0 0"/>
      <geometry>
        <mesh filename="handle~handle1_convex_piece_37.obj" scale="1.0000E+00 1.0000E+00 1.0000E+00"/>
      </geometry>
      <material name=""/>
    </visual>
    <collision>
      <origin xyz="0 0 0" rpy="0 0 0"/>
      <geometry>
        <mesh filename="handle~handle1_convex_piece_37.obj" scale="1.0000E+00 1.0000E+00 1.0000E+00"/>
      </geometry>
    </collision>
  </link>
  <joint name="link_handle~handle1_convex_piece_37_joint" type="fixed">
    <origin xyz="0 0 0" rpy="0 0 0"/>
    <parent link="link_handle~handle1_convex_piece_36"/>
    <child link="link_handle~handle1_convex_piece_37"/>
  </joint>
  <link name="link_handle~handle1_convex_piece_38">
    <inertial>
      <origin xyz="0 0 0" rpy="0 0 0"/>
      <mass value="7.99E-05"/>
      <inertia ixx="4.12E-09" ixy="-2.59E-08" ixz="-1.02E-08" iyy="2.11E-07" iyz="-1.37E-09" izz="2.14E-07"/>
    </inertial>
    <visual>
      <origin xyz="0 0 0" rpy="0 0 0"/>
      <geometry>
        <mesh filename="handle~handle1_convex_piece_38.obj" scale="1.0000E+00 1.0000E+00 1.0000E+00"/>
      </geometry>
      <material name=""/>
    </visual>
    <collision>
      <origin xyz="0 0 0" rpy="0 0 0"/>
      <geometry>
        <mesh filename="handle~handle1_convex_piece_38.obj" scale="1.0000E+00 1.0000E+00 1.0000E+00"/>
      </geometry>
    </collision>
  </link>
  <joint name="link_handle~handle1_convex_piece_38_joint" type="fixed">
    <origin xyz="0 0 0" rpy="0 0 0"/>
    <parent link="link_handle~handle1_convex_piece_37"/>
    <child link="link_handle~handle1_convex_piece_38"/>
  </joint>
  <link name="link_handle~handle1_convex_piece_39">
    <inertial>
      <origin xyz="0 0 0" rpy="0 0 0"/>
      <mass value="1.60E-04"/>
      <inertia ixx="1.03E-08" ixy="4.69E-08" ixz="-2.39E-08" iyy="2.89E-07" iyz="4.18E-09" izz="2.95E-07"/>
    </inertial>
    <visual>
      <origin xyz="0 0 0" rpy="0 0 0"/>
      <geometry>
        <mesh filename="handle~handle1_convex_piece_39.obj" scale="1.0000E+00 1.0000E+00 1.0000E+00"/>
      </geometry>
      <material name=""/>
    </visual>
    <collision>
      <origin xyz="0 0 0" rpy="0 0 0"/>
      <geometry>
        <mesh filename="handle~handle1_convex_piece_39.obj" scale="1.0000E+00 1.0000E+00 1.0000E+00"/>
      </geometry>
    </collision>
  </link>
  <joint name="link_handle~handle1_convex_piece_39_joint" type="fixed">
    <origin xyz="0 0 0" rpy="0 0 0"/>
    <parent link="link_handle~handle1_convex_piece_38"/>
    <child link="link_handle~handle1_convex_piece_39"/>
  </joint>
  <link name="link_handle~handle1_convex_piece_40">
    <inertial>
      <origin xyz="0 0 0" rpy="0 0 0"/>
      <mass value="1.46E-04"/>
      <inertia ixx="5.48E-09" ixy="1.20E-08" ixz="-7.54E-09" iyy="4.51E-08" iyz="2.35E-09" izz="4.75E-08"/>
    </inertial>
    <visual>
      <origin xyz="0 0 0" rpy="0 0 0"/>
      <geometry>
        <mesh filename="handle~handle1_convex_piece_40.obj" scale="1.0000E+00 1.0000E+00 1.0000E+00"/>
      </geometry>
      <material name=""/>
    </visual>
    <collision>
      <origin xyz="0 0 0" rpy="0 0 0"/>
      <geometry>
        <mesh filename="handle~handle1_convex_piece_40.obj" scale="1.0000E+00 1.0000E+00 1.0000E+00"/>
      </geometry>
    </collision>
  </link>
  <joint name="link_handle~handle1_convex_piece_40_joint" type="fixed">
    <origin xyz="0 0 0" rpy="0 0 0"/>
    <parent link="link_handle~handle1_convex_piece_39"/>
    <child link="link_handle~handle1_convex_piece_40"/>
  </joint>
  <link name="link_handle~handle1_convex_piece_41">
    <inertial>
      <origin xyz="0 0 0" rpy="0 0 0"/>
      <mass value="6.87E-04"/>
      <inertia ixx="1.81E-08" ixy="1.19E-07" ixz="-1.31E-07" iyy="2.73E-06" iyz="7.14E-09" izz="2.73E-06"/>
    </inertial>
    <visual>
      <origin xyz="0 0 0" rpy="0 0 0"/>
      <geometry>
        <mesh filename="handle~handle1_convex_piece_41.obj" scale="1.0000E+00 1.0000E+00 1.0000E+00"/>
      </geometry>
      <material name=""/>
    </visual>
    <collision>
      <origin xyz="0 0 0" rpy="0 0 0"/>
      <geometry>
        <mesh filename="handle~handle1_convex_piece_41.obj" scale="1.0000E+00 1.0000E+00 1.0000E+00"/>
      </geometry>
    </collision>
  </link>
  <joint name="link_handle~handle1_convex_piece_41_joint" type="fixed">
    <origin xyz="0 0 0" rpy="0 0 0"/>
    <parent link="link_handle~handle1_convex_piece_40"/>
    <child link="link_handle~handle1_convex_piece_41"/>
  </joint>
  <link name="link_handle~handle1_convex_piece_42">
    <inertial>
      <origin xyz="0 0 0" rpy="0 0 0"/>
      <mass value="3.02E-04"/>
      <inertia ixx="7.59E-08" ixy="1.97E-08" ixz="-1.23E-07" iyy="2.85E-07" iyz="1.18E-08" izz="2.14E-07"/>
    </inertial>
    <visual>
      <origin xyz="0 0 0" rpy="0 0 0"/>
      <geometry>
        <mesh filename="handle~handle1_convex_piece_42.obj" scale="1.0000E+00 1.0000E+00 1.0000E+00"/>
      </geometry>
      <material name=""/>
    </visual>
    <collision>
      <origin xyz="0 0 0" rpy="0 0 0"/>
      <geometry>
        <mesh filename="handle~handle1_convex_piece_42.obj" scale="1.0000E+00 1.0000E+00 1.0000E+00"/>
      </geometry>
    </collision>
  </link>
  <joint name="link_handle~handle1_convex_piece_42_joint" type="fixed">
    <origin xyz="0 0 0" rpy="0 0 0"/>
    <parent link="link_handle~handle1_convex_piece_41"/>
    <child link="link_handle~handle1_convex_piece_42"/>
  </joint>
  <link name="link_handle~handle1_convex_piece_43">
    <inertial>
      <origin xyz="0 0 0" rpy="0 0 0"/>
      <mass value="4.19E-05"/>
      <inertia ixx="3.05E-08" ixy="9.54E-09" ixz="-3.51E-08" iyy="7.27E-08" iyz="7.64E-09" izz="4.65E-08"/>
    </inertial>
    <visual>
      <origin xyz="0 0 0" rpy="0 0 0"/>
      <geometry>
        <mesh filename="handle~handle1_convex_piece_43.obj" scale="1.0000E+00 1.0000E+00 1.0000E+00"/>
      </geometry>
      <material name=""/>
    </visual>
    <collision>
      <origin xyz="0 0 0" rpy="0 0 0"/>
      <geometry>
        <mesh filename="handle~handle1_convex_piece_43.obj" scale="1.0000E+00 1.0000E+00 1.0000E+00"/>
      </geometry>
    </collision>
  </link>
  <joint name="link_handle~handle1_convex_piece_43_joint" type="fixed">
    <origin xyz="0 0 0" rpy="0 0 0"/>
    <parent link="link_handle~handle1_convex_piece_42"/>
    <child link="link_handle~handle1_convex_piece_43"/>
  </joint>
  <link name="link_handle~handle1_convex_piece_44">
    <inertial>
      <origin xyz="0 0 0" rpy="0 0 0"/>
      <mass value="1.75E-03"/>
      <inertia ixx="2.36E-07" ixy="1.32E-07" ixz="2.51E-07" iyy="5.95E-07" iyz="-8.61E-08" izz="4.83E-07"/>
    </inertial>
    <visual>
      <origin xyz="0 0 0" rpy="0 0 0"/>
      <geometry>
        <mesh filename="handle~handle1_convex_piece_44.obj" scale="1.0000E+00 1.0000E+00 1.0000E+00"/>
      </geometry>
      <material name=""/>
    </visual>
    <collision>
      <origin xyz="0 0 0" rpy="0 0 0"/>
      <geometry>
        <mesh filename="handle~handle1_convex_piece_44.obj" scale="1.0000E+00 1.0000E+00 1.0000E+00"/>
      </geometry>
    </collision>
  </link>
  <joint name="link_handle~handle1_convex_piece_44_joint" type="fixed">
    <origin xyz="0 0 0" rpy="0 0 0"/>
    <parent link="link_handle~handle1_convex_piece_43"/>
    <child link="link_handle~handle1_convex_piece_44"/>
  </joint>
  <link name="link_handle~handle1_convex_piece_45">
    <inertial>
      <origin xyz="0 0 0" rpy="0 0 0"/>
      <mass value="1.14E-03"/>
      <inertia ixx="5.04E-07" ixy="-3.11E-07" ixz="-7.15E-07" iyy="1.72E-06" iyz="-1.77E-07" izz="1.37E-06"/>
    </inertial>
    <visual>
      <origin xyz="0 0 0" rpy="0 0 0"/>
      <geometry>
        <mesh filename="handle~handle1_convex_piece_45.obj" scale="1.0000E+00 1.0000E+00 1.0000E+00"/>
      </geometry>
      <material name=""/>
    </visual>
    <collision>
      <origin xyz="0 0 0" rpy="0 0 0"/>
      <geometry>
        <mesh filename="handle~handle1_convex_piece_45.obj" scale="1.0000E+00 1.0000E+00 1.0000E+00"/>
      </geometry>
    </collision>
  </link>
  <joint name="link_handle~handle1_convex_piece_45_joint" type="fixed">
    <origin xyz="0 0 0" rpy="0 0 0"/>
    <parent link="link_handle~handle1_convex_piece_44"/>
    <child link="link_handle~handle1_convex_piece_45"/>
  </joint>
  <link name="link_handle~handle1_convex_piece_46">
    <inertial>
      <origin xyz="0 0 0" rpy="0 0 0"/>
      <mass value="1.04E-03"/>
      <inertia ixx="3.66E-08" ixy="4.78E-08" ixz="3.91E-08" iyy="2.03E-07" iyz="-1.46E-08" izz="2.13E-07"/>
    </inertial>
    <visual>
      <origin xyz="0 0 0" rpy="0 0 0"/>
      <geometry>
        <mesh filename="handle~handle1_convex_piece_46.obj" scale="1.0000E+00 1.0000E+00 1.0000E+00"/>
      </geometry>
      <material name=""/>
    </visual>
    <collision>
      <origin xyz="0 0 0" rpy="0 0 0"/>
      <geometry>
        <mesh filename="handle~handle1_convex_piece_46.obj" scale="1.0000E+00 1.0000E+00 1.0000E+00"/>
      </geometry>
    </collision>
  </link>
  <joint name="link_handle~handle1_convex_piece_46_joint" type="fixed">
    <origin xyz="0 0 0" rpy="0 0 0"/>
    <parent link="link_handle~handle1_convex_piece_45"/>
    <child link="link_handle~handle1_convex_piece_46"/>
  </joint>
  <link name="link_handle~handle1_convex_piece_47">
    <inertial>
      <origin xyz="0 0 0" rpy="0 0 0"/>
      <mass value="1.02E-03"/>
      <inertia ixx="2.81E-08" ixy="-9.16E-08" ixz="-1.05E-07" iyy="1.31E-06" iyz="-1.02E-08" izz="1.31E-06"/>
    </inertial>
    <visual>
      <origin xyz="0 0 0" rpy="0 0 0"/>
      <geometry>
        <mesh filename="handle~handle1_convex_piece_47.obj" scale="1.0000E+00 1.0000E+00 1.0000E+00"/>
      </geometry>
      <material name=""/>
    </visual>
    <collision>
      <origin xyz="0 0 0" rpy="0 0 0"/>
      <geometry>
        <mesh filename="handle~handle1_convex_piece_47.obj" scale="1.0000E+00 1.0000E+00 1.0000E+00"/>
      </geometry>
    </collision>
  </link>
  <joint name="link_handle~handle1_convex_piece_47_joint" type="fixed">
    <origin xyz="0 0 0" rpy="0 0 0"/>
    <parent link="link_handle~handle1_convex_piece_46"/>
    <child link="link_handle~handle1_convex_piece_47"/>
  </joint>
  <link name="link_handle~handle1_convex_piece_48">
    <inertial>
      <origin xyz="0 0 0" rpy="0 0 0"/>
      <mass value="2.59E-04"/>
      <inertia ixx="1.71E-08" ixy="-1.02E-07" ixz="-5.98E-08" iyy="8.84E-07" iyz="-7.39E-09" izz="8.92E-07"/>
    </inertial>
    <visual>
      <origin xyz="0 0 0" rpy="0 0 0"/>
      <geometry>
        <mesh filename="handle~handle1_convex_piece_48.obj" scale="1.0000E+00 1.0000E+00 1.0000E+00"/>
      </geometry>
      <material name=""/>
    </visual>
    <collision>
      <origin xyz="0 0 0" rpy="0 0 0"/>
      <geometry>
        <mesh filename="handle~handle1_convex_piece_48.obj" scale="1.0000E+00 1.0000E+00 1.0000E+00"/>
      </geometry>
    </collision>
  </link>
  <joint name="link_handle~handle1_convex_piece_48_joint" type="fixed">
    <origin xyz="0 0 0" rpy="0 0 0"/>
    <parent link="link_handle~handle1_convex_piece_47"/>
    <child link="link_handle~handle1_convex_piece_48"/>
  </joint>
  <link name="link_handle~handle1_convex_piece_49">
    <inertial>
      <origin xyz="0 0 0" rpy="0 0 0"/>
      <mass value="1.62E-03"/>
      <inertia ixx="8.37E-08" ixy="2.46E-09" ixz="-1.36E-07" iyy="1.11E-06" iyz="2.74E-10" izz="1.14E-06"/>
    </inertial>
    <visual>
      <origin xyz="0 0 0" rpy="0 0 0"/>
      <geometry>
        <mesh filename="handle~handle1_convex_piece_49.obj" scale="1.0000E+00 1.0000E+00 1.0000E+00"/>
      </geometry>
      <material name=""/>
    </visual>
    <collision>
      <origin xyz="0 0 0" rpy="0 0 0"/>
      <geometry>
        <mesh filename="handle~handle1_convex_piece_49.obj" scale="1.0000E+00 1.0000E+00 1.0000E+00"/>
      </geometry>
    </collision>
  </link>
  <joint name="link_handle~handle1_convex_piece_49_joint" type="fixed">
    <origin xyz="0 0 0" rpy="0 0 0"/>
    <parent link="link_handle~handle1_convex_piece_48"/>
    <child link="link_handle~handle1_convex_piece_49"/>
  </joint>
  <link name="link_handle~handle1_convex_piece_50">
    <inertial>
      <origin xyz="0 0 0" rpy="0 0 0"/>
      <mass value="2.92E-04"/>
      <inertia ixx="7.21E-08" ixy="-2.46E-08" ixz="-1.17E-07" iyy="2.72E-07" iyz="-1.44E-08" izz="2.07E-07"/>
    </inertial>
    <visual>
      <origin xyz="0 0 0" rpy="0 0 0"/>
      <geometry>
        <mesh filename="handle~handle1_convex_piece_50.obj" scale="1.0000E+00 1.0000E+00 1.0000E+00"/>
      </geometry>
      <material name=""/>
    </visual>
    <collision>
      <origin xyz="0 0 0" rpy="0 0 0"/>
      <geometry>
        <mesh filename="handle~handle1_convex_piece_50.obj" scale="1.0000E+00 1.0000E+00 1.0000E+00"/>
      </geometry>
    </collision>
  </link>
  <joint name="link_handle~handle1_convex_piece_50_joint" type="fixed">
    <origin xyz="0 0 0" rpy="0 0 0"/>
    <parent link="link_handle~handle1_convex_piece_49"/>
    <child link="link_handle~handle1_convex_piece_50"/>
  </joint>
  <link name="link_handle~handle1_convex_piece_51">
    <inertial>
      <origin xyz="0 0 0" rpy="0 0 0"/>
      <mass value="4.64E-04"/>
      <inertia ixx="1.52E-08" ixy="-1.63E-08" ixz="-1.52E-07" iyy="2.82E-06" iyz="-1.07E-09" izz="2.82E-06"/>
    </inertial>
    <visual>
      <origin xyz="0 0 0" rpy="0 0 0"/>
      <geometry>
        <mesh filename="handle~handle1_convex_piece_51.obj" scale="1.0000E+00 1.0000E+00 1.0000E+00"/>
      </geometry>
      <material name=""/>
    </visual>
    <collision>
      <origin xyz="0 0 0" rpy="0 0 0"/>
      <geometry>
        <mesh filename="handle~handle1_convex_piece_51.obj" scale="1.0000E+00 1.0000E+00 1.0000E+00"/>
      </geometry>
    </collision>
  </link>
  <joint name="link_handle~handle1_convex_piece_51_joint" type="fixed">
    <origin xyz="0 0 0" rpy="0 0 0"/>
    <parent link="link_handle~handle1_convex_piece_50"/>
    <child link="link_handle~handle1_convex_piece_51"/>
  </joint>
  <link name="link_handle~handle1_convex_piece_52">
    <inertial>
      <origin xyz="0 0 0" rpy="0 0 0"/>
      <mass value="1.82E-04"/>
      <inertia ixx="7.00E-08" ixy="2.41E-08" ixz="-9.36E-08" iyy="2.65E-07" iyz="1.15E-08" izz="2.00E-07"/>
    </inertial>
    <visual>
      <origin xyz="0 0 0" rpy="0 0 0"/>
      <geometry>
        <mesh filename="handle~handle1_convex_piece_52.obj" scale="1.0000E+00 1.0000E+00 1.0000E+00"/>
      </geometry>
      <material name=""/>
    </visual>
    <collision>
      <origin xyz="0 0 0" rpy="0 0 0"/>
      <geometry>
        <mesh filename="handle~handle1_convex_piece_52.obj" scale="1.0000E+00 1.0000E+00 1.0000E+00"/>
      </geometry>
    </collision>
  </link>
  <joint name="link_handle~handle1_convex_piece_52_joint" type="fixed">
    <origin xyz="0 0 0" rpy="0 0 0"/>
    <parent link="link_handle~handle1_convex_piece_51"/>
    <child link="link_handle~handle1_convex_piece_52"/>
  </joint>
  <link name="link_handle~handle1_convex_piece_53">
    <inertial>
      <origin xyz="0 0 0" rpy="0 0 0"/>
      <mass value="2.14E-04"/>
      <inertia ixx="2.05E-07" ixy="2.10E-08" ixz="-2.44E-07" iyy="5.00E-07" iyz="1.75E-08" izz="2.98E-07"/>
    </inertial>
    <visual>
      <origin xyz="0 0 0" rpy="0 0 0"/>
      <geometry>
        <mesh filename="handle~handle1_convex_piece_53.obj" scale="1.0000E+00 1.0000E+00 1.0000E+00"/>
      </geometry>
      <material name=""/>
    </visual>
    <collision>
      <origin xyz="0 0 0" rpy="0 0 0"/>
      <geometry>
        <mesh filename="handle~handle1_convex_piece_53.obj" scale="1.0000E+00 1.0000E+00 1.0000E+00"/>
      </geometry>
    </collision>
  </link>
  <joint name="link_handle~handle1_convex_piece_53_joint" type="fixed">
    <origin xyz="0 0 0" rpy="0 0 0"/>
    <parent link="link_handle~handle1_convex_piece_52"/>
    <child link="link_handle~handle1_convex_piece_53"/>
  </joint>
  <link name="link_handle~handle1_convex_piece_54">
    <inertial>
      <origin xyz="0 0 0" rpy="0 0 0"/>
      <mass value="3.63E-04"/>
      <inertia ixx="2.85E-07" ixy="2.64E-08" ixz="-2.86E-07" iyy="5.80E-07" iyz="2.55E-08" izz="3.00E-07"/>
    </inertial>
    <visual>
      <origin xyz="0 0 0" rpy="0 0 0"/>
      <geometry>
        <mesh filename="handle~handle1_convex_piece_54.obj" scale="1.0000E+00 1.0000E+00 1.0000E+00"/>
      </geometry>
      <material name=""/>
    </visual>
    <collision>
      <origin xyz="0 0 0" rpy="0 0 0"/>
      <geometry>
        <mesh filename="handle~handle1_convex_piece_54.obj" scale="1.0000E+00 1.0000E+00 1.0000E+00"/>
      </geometry>
    </collision>
  </link>
  <joint name="link_handle~handle1_convex_piece_54_joint" type="fixed">
    <origin xyz="0 0 0" rpy="0 0 0"/>
    <parent link="link_handle~handle1_convex_piece_53"/>
    <child link="link_handle~handle1_convex_piece_54"/>
  </joint>
  <link name="link_handle~handle1_convex_piece_55">
    <inertial>
      <origin xyz="0 0 0" rpy="0 0 0"/>
      <mass value="2.66E-04"/>
      <inertia ixx="2.58E-07" ixy="4.80E-08" ixz="-2.73E-07" iyy="5.54E-07" iyz="4.32E-08" izz="3.12E-07"/>
    </inertial>
    <visual>
      <origin xyz="0 0 0" rpy="0 0 0"/>
      <geometry>
        <mesh filename="handle~handle1_convex_piece_55.obj" scale="1.0000E+00 1.0000E+00 1.0000E+00"/>
      </geometry>
      <material name=""/>
    </visual>
    <collision>
      <origin xyz="0 0 0" rpy="0 0 0"/>
      <geometry>
        <mesh filename="handle~handle1_convex_piece_55.obj" scale="1.0000E+00 1.0000E+00 1.0000E+00"/>
      </geometry>
    </collision>
  </link>
  <joint name="link_handle~handle1_convex_piece_55_joint" type="fixed">
    <origin xyz="0 0 0" rpy="0 0 0"/>
    <parent link="link_handle~handle1_convex_piece_54"/>
    <child link="link_handle~handle1_convex_piece_55"/>
  </joint>
  <link name="link_handle~handle1_convex_piece_56">
    <inertial>
      <origin xyz="0 0 0" rpy="0 0 0"/>
      <mass value="4.65E-03"/>
      <inertia ixx="5.23E-07" ixy="-3.92E-07" ixz="5.21E-07" iyy="1.78E-06" iyz="1.96E-07" izz="1.62E-06"/>
    </inertial>
    <visual>
      <origin xyz="0 0 0" rpy="0 0 0"/>
      <geometry>
        <mesh filename="handle~handle1_convex_piece_56.obj" scale="1.0000E+00 1.0000E+00 1.0000E+00"/>
      </geometry>
      <material name=""/>
    </visual>
    <collision>
      <origin xyz="0 0 0" rpy="0 0 0"/>
      <geometry>
        <mesh filename="handle~handle1_convex_piece_56.obj" scale="1.0000E+00 1.0000E+00 1.0000E+00"/>
      </geometry>
    </collision>
  </link>
  <joint name="link_handle~handle1_convex_piece_56_joint" type="fixed">
    <origin xyz="0 0 0" rpy="0 0 0"/>
    <parent link="link_handle~handle1_convex_piece_55"/>
    <child link="link_handle~handle1_convex_piece_56"/>
  </joint>
  <link name="link_handle~handle1_convex_piece_57">
    <inertial>
      <origin xyz="0 0 0" rpy="0 0 0"/>
      <mass value="7.59E-04"/>
      <inertia ixx="8.76E-08" ixy="2.43E-07" ixz="-4.07E-07" iyy="3.03E-06" iyz="3.38E-08" izz="2.99E-06"/>
    </inertial>
    <visual>
      <origin xyz="0 0 0" rpy="0 0 0"/>
      <geometry>
        <mesh filename="handle~handle1_convex_piece_57.obj" scale="1.0000E+00 1.0000E+00 1.0000E+00"/>
      </geometry>
      <material name=""/>
    </visual>
    <collision>
      <origin xyz="0 0 0" rpy="0 0 0"/>
      <geometry>
        <mesh filename="handle~handle1_convex_piece_57.obj" scale="1.0000E+00 1.0000E+00 1.0000E+00"/>
      </geometry>
    </collision>
  </link>
  <joint name="link_handle~handle1_convex_piece_57_joint" type="fixed">
    <origin xyz="0 0 0" rpy="0 0 0"/>
    <parent link="link_handle~handle1_convex_piece_56"/>
    <child link="link_handle~handle1_convex_piece_57"/>
  </joint>
  <link name="link_handle~handle1_convex_piece_58">
    <inertial>
      <origin xyz="0 0 0" rpy="0 0 0"/>
      <mass value="3.18E-03"/>
      <inertia ixx="3.87E-07" ixy="-7.10E-08" ixz="-1.73E-07" iyy="5.83E-07" iyz="-1.25E-07" izz="3.73E-07"/>
    </inertial>
    <visual>
      <origin xyz="0 0 0" rpy="0 0 0"/>
      <geometry>
        <mesh filename="handle~handle1_convex_piece_58.obj" scale="1.0000E+00 1.0000E+00 1.0000E+00"/>
      </geometry>
      <material name=""/>
    </visual>
    <collision>
      <origin xyz="0 0 0" rpy="0 0 0"/>
      <geometry>
        <mesh filename="handle~handle1_convex_piece_58.obj" scale="1.0000E+00 1.0000E+00 1.0000E+00"/>
      </geometry>
    </collision>
  </link>
  <joint name="link_handle~handle1_convex_piece_58_joint" type="fixed">
    <origin xyz="0 0 0" rpy="0 0 0"/>
    <parent link="link_handle~handle1_convex_piece_57"/>
    <child link="link_handle~handle1_convex_piece_58"/>
  </joint>
  <link name="link_handle~handle1_convex_piece_59">
    <inertial>
      <origin xyz="0 0 0" rpy="0 0 0"/>
      <mass value="1.89E-04"/>
      <inertia ixx="3.51E-09" ixy="-3.08E-09" ixz="1.99E-08" iyy="2.07E-07" iyz="1.18E-10" izz="2.06E-07"/>
    </inertial>
    <visual>
      <origin xyz="0 0 0" rpy="0 0 0"/>
      <geometry>
        <mesh filename="handle~handle1_convex_piece_59.obj" scale="1.0000E+00 1.0000E+00 1.0000E+00"/>
      </geometry>
      <material name=""/>
    </visual>
    <collision>
      <origin xyz="0 0 0" rpy="0 0 0"/>
      <geometry>
        <mesh filename="handle~handle1_convex_piece_59.obj" scale="1.0000E+00 1.0000E+00 1.0000E+00"/>
      </geometry>
    </collision>
  </link>
  <joint name="link_handle~handle1_convex_piece_59_joint" type="fixed">
    <origin xyz="0 0 0" rpy="0 0 0"/>
    <parent link="link_handle~handle1_convex_piece_58"/>
    <child link="link_handle~handle1_convex_piece_59"/>
  </joint>
  <link name="link_handle~handle1_convex_piece_60">
    <inertial>
      <origin xyz="0 0 0" rpy="0 0 0"/>
      <mass value="4.02E-04"/>
      <inertia ixx="2.12E-07" ixy="-1.26E-08" ixz="-2.24E-07" iyy="4.51E-07" iyz="-1.13E-08" izz="2.48E-07"/>
    </inertial>
    <visual>
      <origin xyz="0 0 0" rpy="0 0 0"/>
      <geometry>
        <mesh filename="handle~handle1_convex_piece_60.obj" scale="1.0000E+00 1.0000E+00 1.0000E+00"/>
      </geometry>
      <material name=""/>
    </visual>
    <collision>
      <origin xyz="0 0 0" rpy="0 0 0"/>
      <geometry>
        <mesh filename="handle~handle1_convex_piece_60.obj" scale="1.0000E+00 1.0000E+00 1.0000E+00"/>
      </geometry>
    </collision>
  </link>
  <joint name="link_handle~handle1_convex_piece_60_joint" type="fixed">
    <origin xyz="0 0 0" rpy="0 0 0"/>
    <parent link="link_handle~handle1_convex_piece_59"/>
    <child link="link_handle~handle1_convex_piece_60"/>
  </joint>
  <link name="link_handle~handle1_convex_piece_61">
    <inertial>
      <origin xyz="0 0 0" rpy="0 0 0"/>
      <mass value="1.07E-04"/>
      <inertia ixx="5.36E-09" ixy="2.99E-08" ixz="-1.16E-08" iyy="2.36E-07" iyz="1.75E-09" izz="2.40E-07"/>
    </inertial>
    <visual>
      <origin xyz="0 0 0" rpy="0 0 0"/>
      <geometry>
        <mesh filename="handle~handle1_convex_piece_61.obj" scale="1.0000E+00 1.0000E+00 1.0000E+00"/>
      </geometry>
      <material name=""/>
    </visual>
    <collision>
      <origin xyz="0 0 0" rpy="0 0 0"/>
      <geometry>
        <mesh filename="handle~handle1_convex_piece_61.obj" scale="1.0000E+00 1.0000E+00 1.0000E+00"/>
      </geometry>
    </collision>
  </link>
  <joint name="link_handle~handle1_convex_piece_61_joint" type="fixed">
    <origin xyz="0 0 0" rpy="0 0 0"/>
    <parent link="link_handle~handle1_convex_piece_60"/>
    <child link="link_handle~handle1_convex_piece_61"/>
  </joint>
  <link name="link_handle~handle1_convex_piece_62">
    <inertial>
      <origin xyz="0 0 0" rpy="0 0 0"/>
      <mass value="2.34E-04"/>
      <inertia ixx="1.57E-07" ixy="-2.27E-08" ixz="-1.72E-07" iyy="3.49E-07" iyz="-2.01E-08" izz="1.99E-07"/>
    </inertial>
    <visual>
      <origin xyz="0 0 0" rpy="0 0 0"/>
      <geometry>
        <mesh filename="handle~handle1_convex_piece_62.obj" scale="1.0000E+00 1.0000E+00 1.0000E+00"/>
      </geometry>
      <material name=""/>
    </visual>
    <collision>
      <origin xyz="0 0 0" rpy="0 0 0"/>
      <geometry>
        <mesh filename="handle~handle1_convex_piece_62.obj" scale="1.0000E+00 1.0000E+00 1.0000E+00"/>
      </geometry>
    </collision>
  </link>
  <joint name="link_handle~handle1_convex_piece_62_joint" type="fixed">
    <origin xyz="0 0 0" rpy="0 0 0"/>
    <parent link="link_handle~handle1_convex_piece_61"/>
    <child link="link_handle~handle1_convex_piece_62"/>
  </joint>
  <link name="link_handle~handle1_convex_piece_63">
    <inertial>
      <origin xyz="0 0 0" rpy="0 0 0"/>
      <mass value="5.14E-03"/>
      <inertia ixx="7.34E-07" ixy="-8.80E-10" ixz="-1.84E-06" iyy="7.16E-06" iyz="-1.25E-10" izz="6.74E-06"/>
    </inertial>
    <visual>
      <origin xyz="0 0 0" rpy="0 0 0"/>
      <geometry>
        <mesh filename="handle~handle1_convex_piece_63.obj" scale="1.0000E+00 1.0000E+00 1.0000E+00"/>
      </geometry>
      <material name=""/>
    </visual>
    <collision>
      <origin xyz="0 0 0" rpy="0 0 0"/>
      <geometry>
        <mesh filename="handle~handle1_convex_piece_63.obj" scale="1.0000E+00 1.0000E+00 1.0000E+00"/>
      </geometry>
    </collision>
  </link>
  <joint name="link_handle~handle1_convex_piece_63_joint" type="fixed">
    <origin xyz="0 0 0" rpy="0 0 0"/>
    <parent link="link_handle~handle1_convex_piece_62"/>
    <child link="link_handle~handle1_convex_piece_63"/>
  </joint>
</robot>
